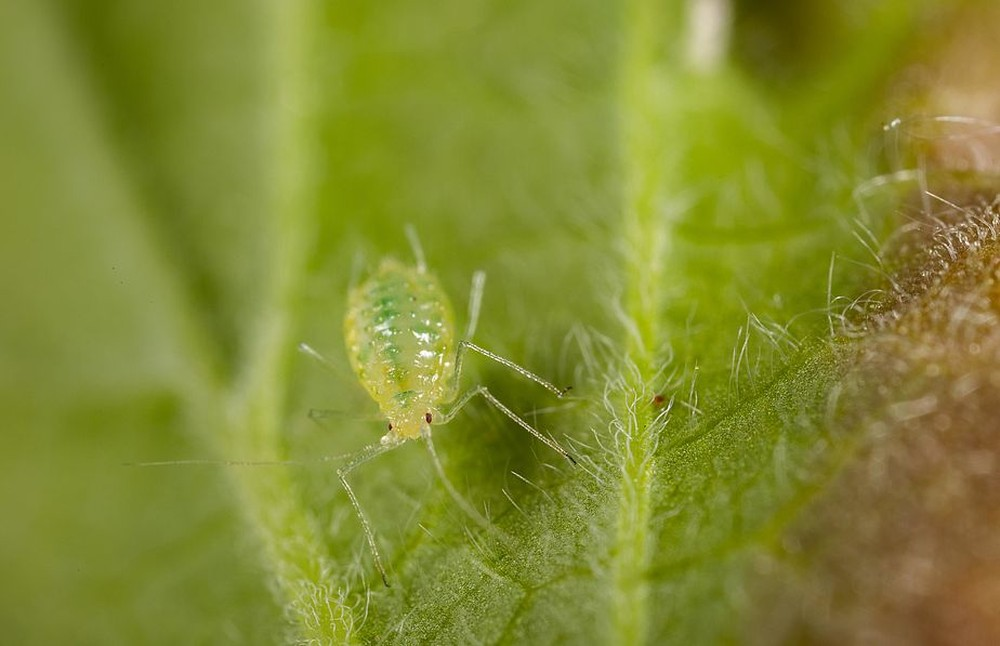Pulgon: (290, 217, 584, 579)
